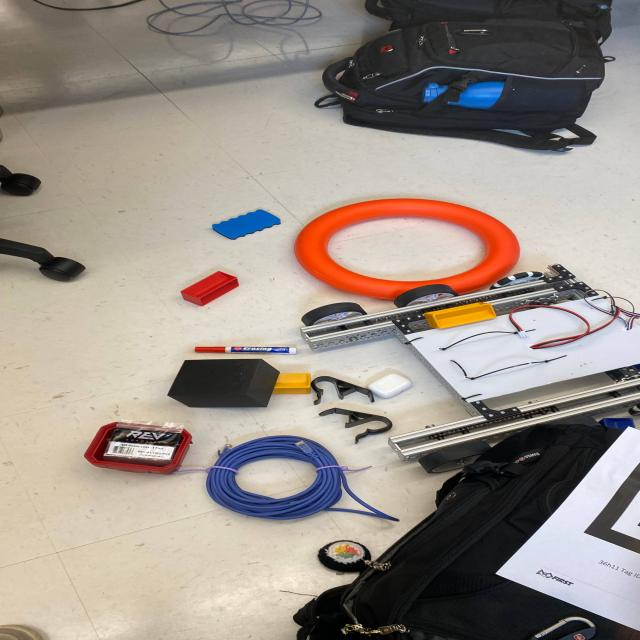blue-specimen: (599, 418, 634, 430)
red-specimen: (181, 271, 238, 306)
yellow-specimen: (424, 303, 497, 329), (273, 373, 311, 394)
